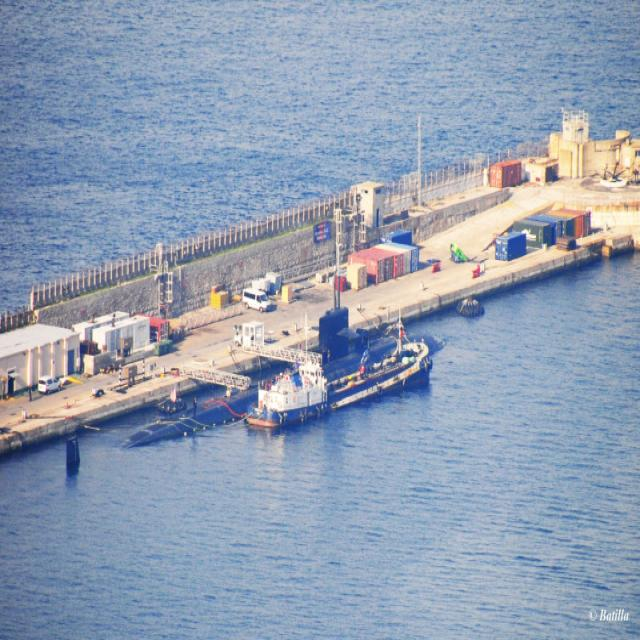submarine: (66, 308, 449, 469)
